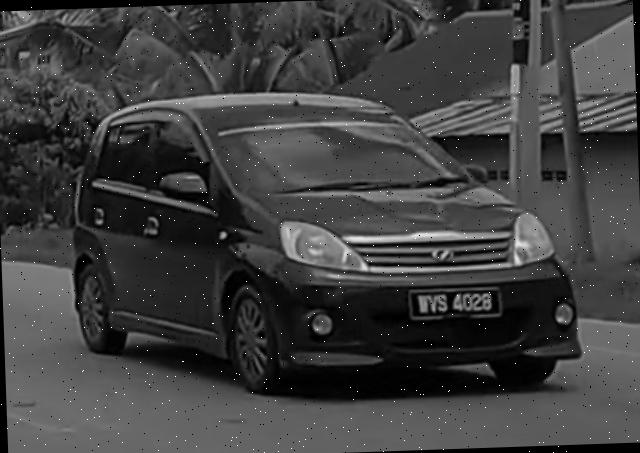License_Plate: (405, 285, 504, 323)
car: (64, 81, 583, 404)
